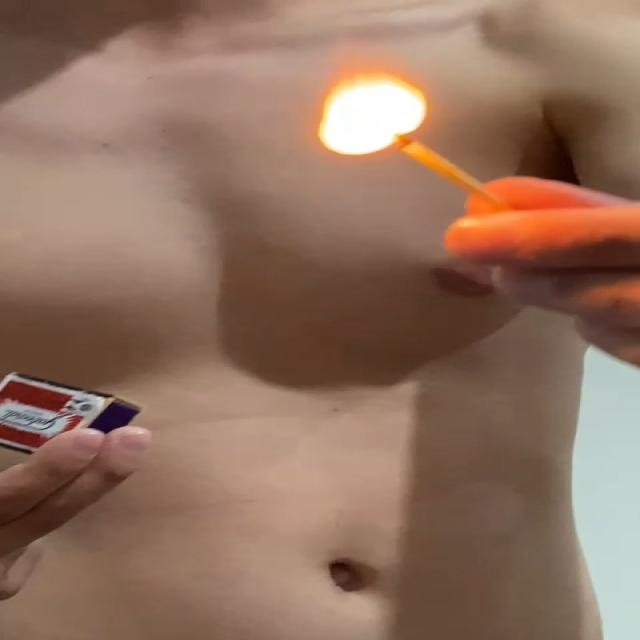fogo-ypXI: (316, 55, 429, 159)
